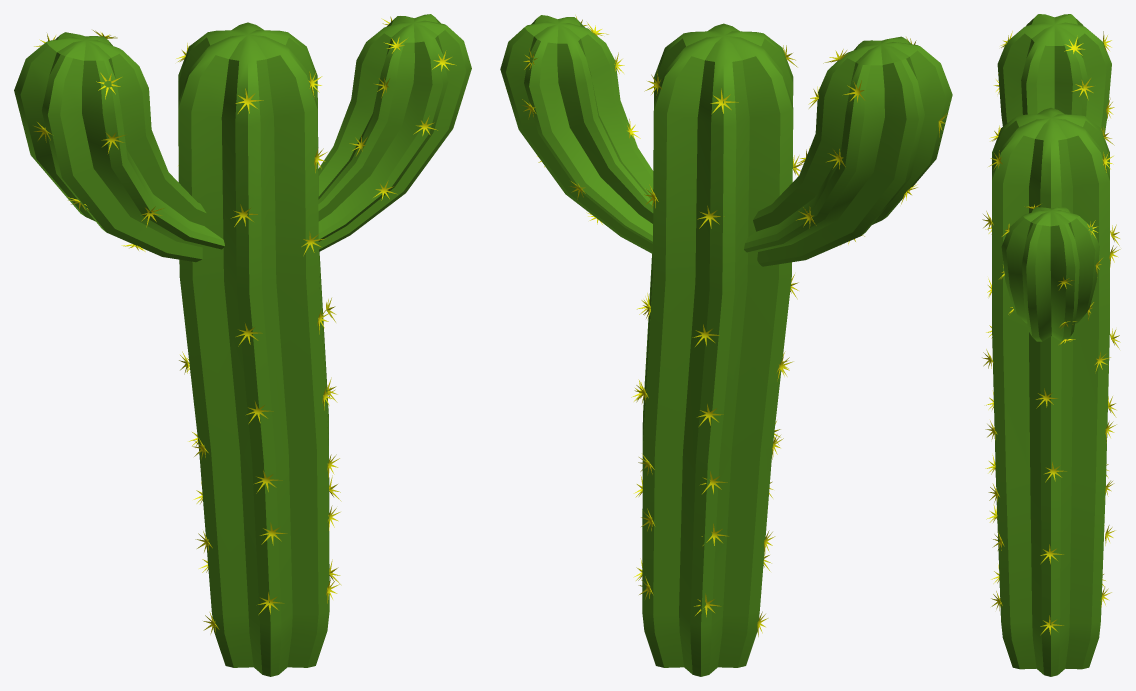
The model's file is plant3.glb.
3 views of the same model, side by side, from view 1: azimuth 30°, elevation 25°; view 2: azimuth 150°, elevation 25°; view 3: azimuth 270°, elevation 25° (orthographic). The views are drawn at different scales.
Parts seen in each view (by area): view 1: Cactuss_02; view 2: Cactuss_02; view 3: Cactuss_02.
Part boxes in pixels (<box>): Cactuss_02: <box>14,14,471,676</box>; Cactuss_02: <box>500,15,952,676</box>; Cactuss_02: <box>982,14,1120,676</box>.
Bounding box in the file's own units: 8.96 × 13.13 × 2.99.
1 material, 1 textured.
